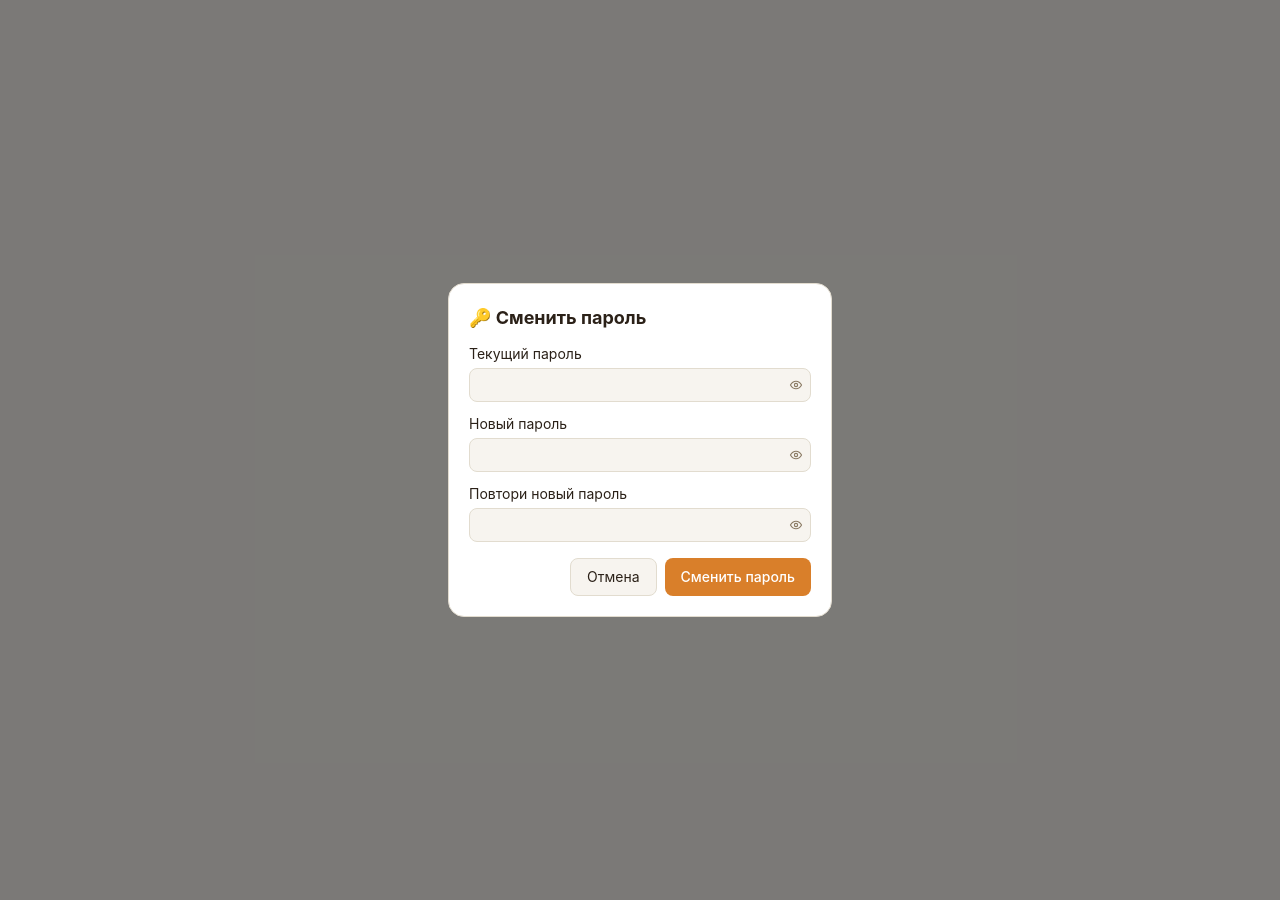
Test case: PasswordModal › неверный текущий пароль → «Текущий пароль неверный», окно остаётся, событие changed не приходит
The width and height of the screenshot is (1280, 900).
In the password field labelled "Текущий пароль": (640, 385) [469,368,811,402], type "wrong"
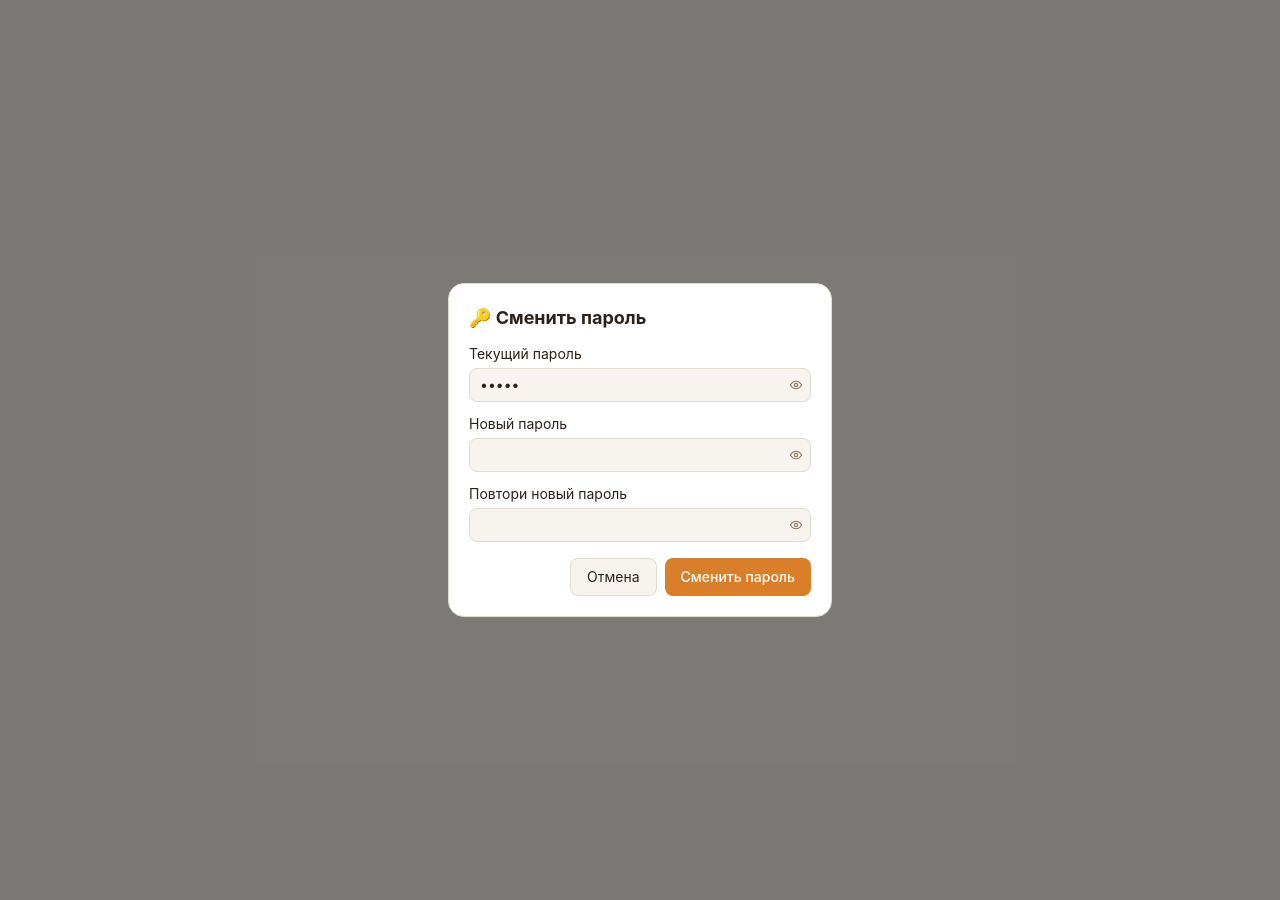
In the password field labelled "Новый пароль": (640, 455) [469,438,811,472], type "new-pass"
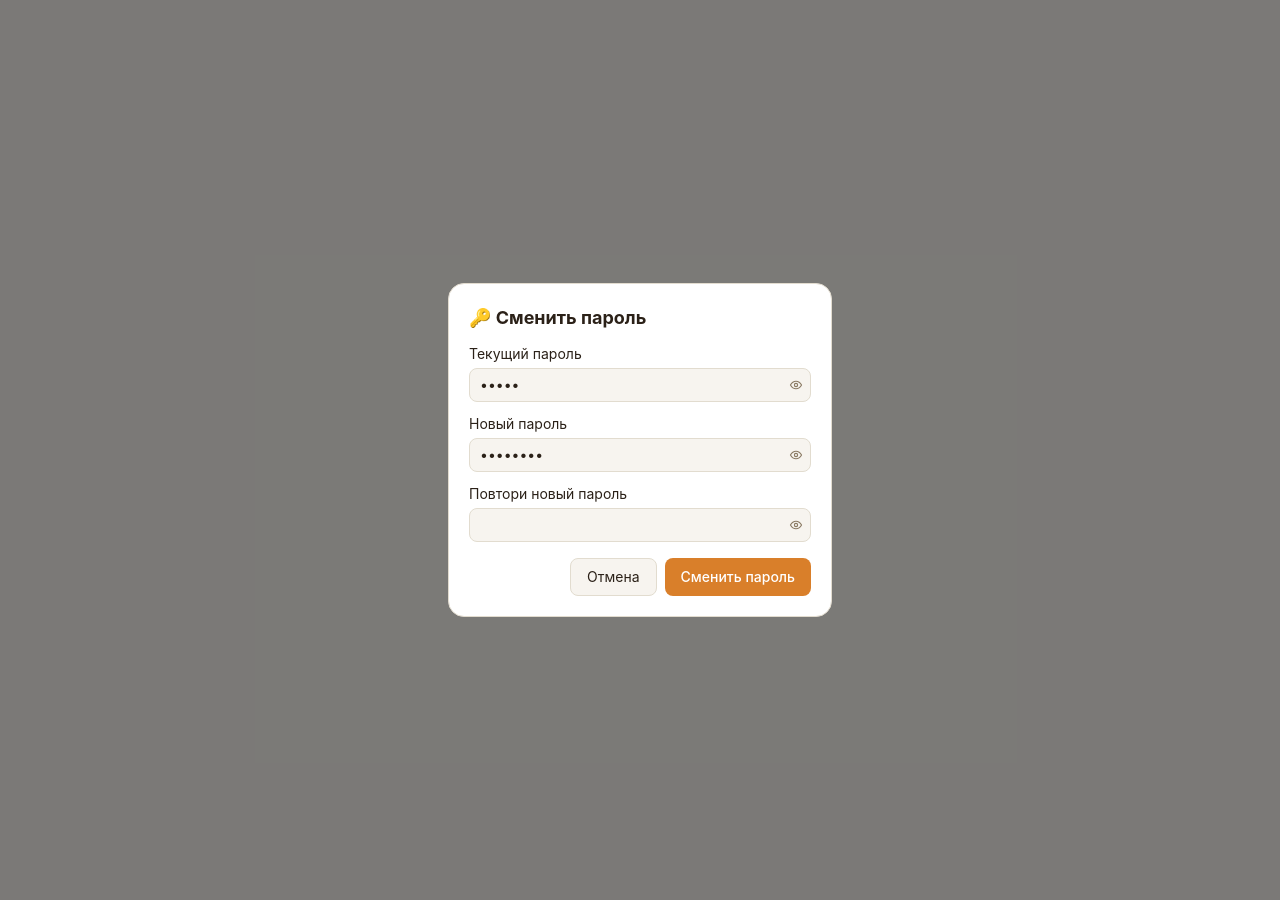
In the password field labelled "Повтори новый пароль": (640, 525) [469,508,811,542], type "new-pass"
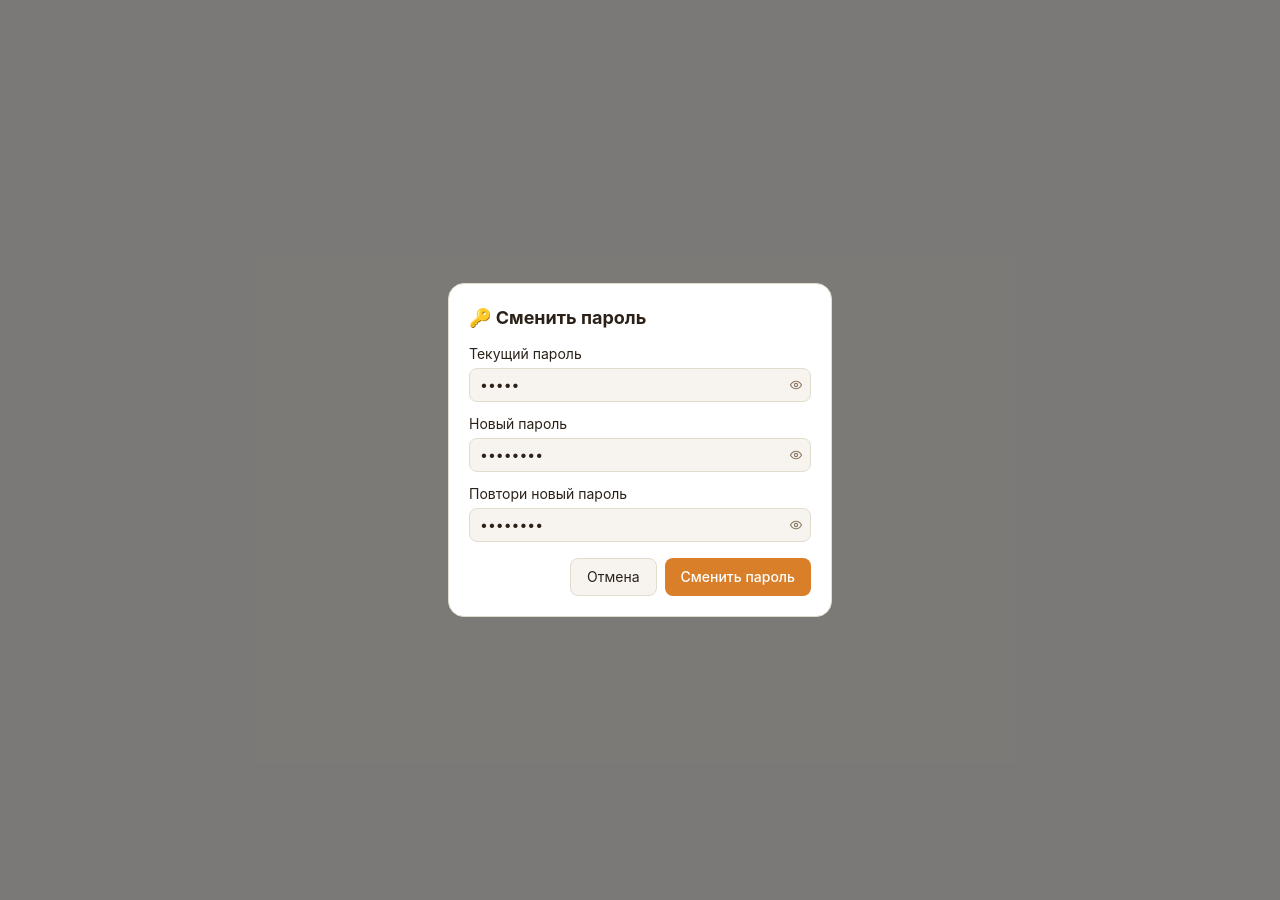
Click the button with test id "submit": (738, 577) [664,558,811,596]
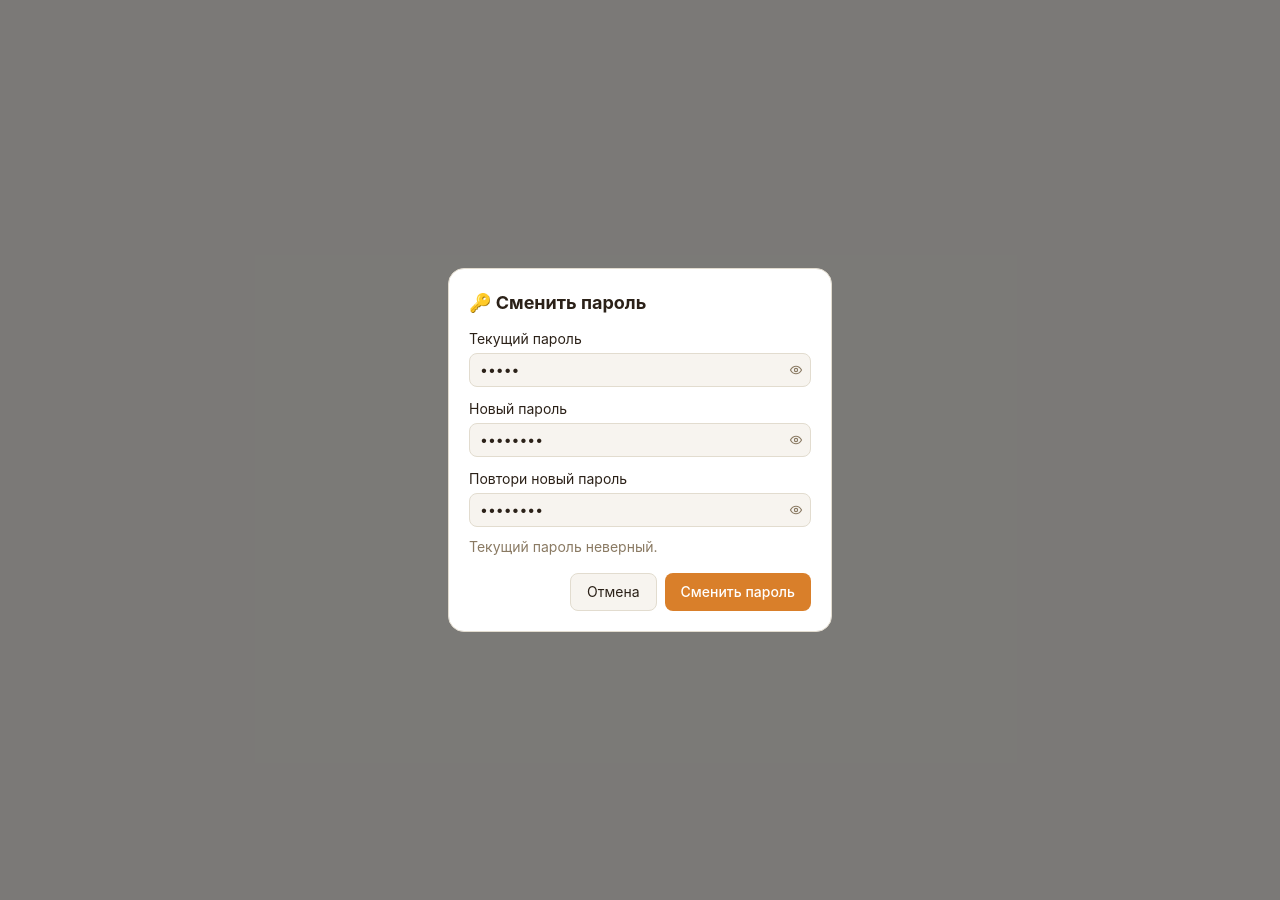
Check: the text with test id "password-msg" reads "Текущий пароль неверный.", box [469,538,658,555]
